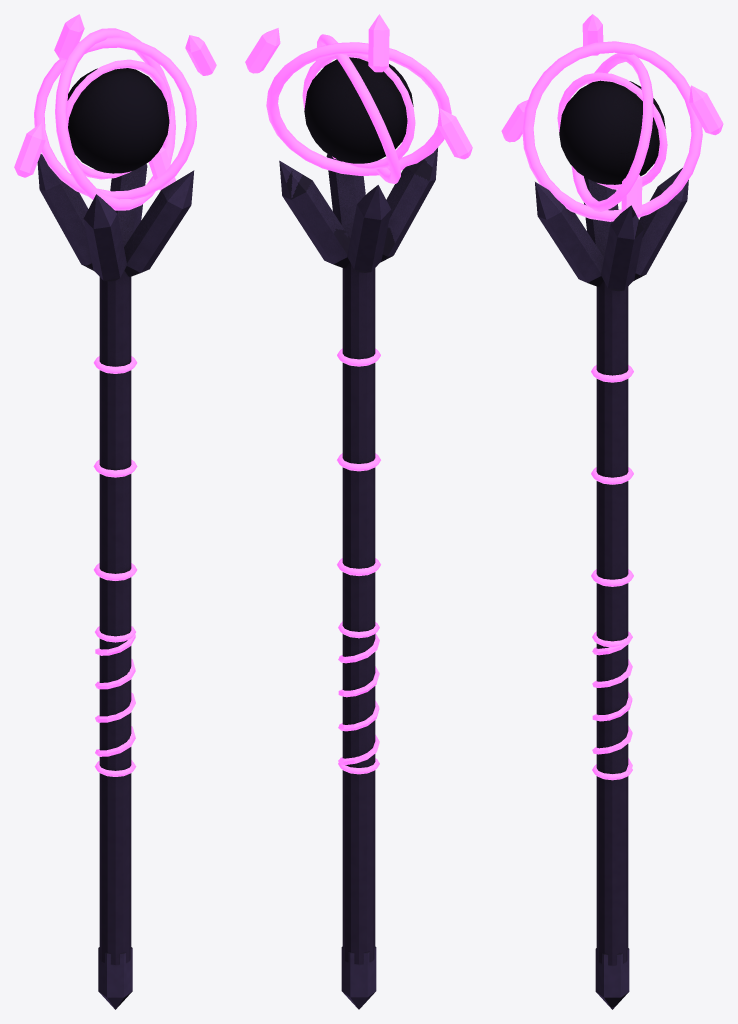
Rendered from 12_void_magic.fbx.
The picture shows the model from 3 angles, left to right: view 1: azimuth 30°, elevation 25°; view 2: azimuth 150°, elevation 25°; view 3: azimuth 330°, elevation 25°; orthographic projection. The views are drawn at different scales.
Visible parts, largest first — view 1: Weapon; view 2: Weapon; view 3: Weapon.
Boxes of the visible parts, <box> form: Weapon: <box>14,14,216,1009</box>; Weapon: <box>245,14,472,1009</box>; Weapon: <box>501,14,723,1009</box>.
Size of the model in its own units: 36.91 by 168 by 18.92.
2 materials, 1 textured.
